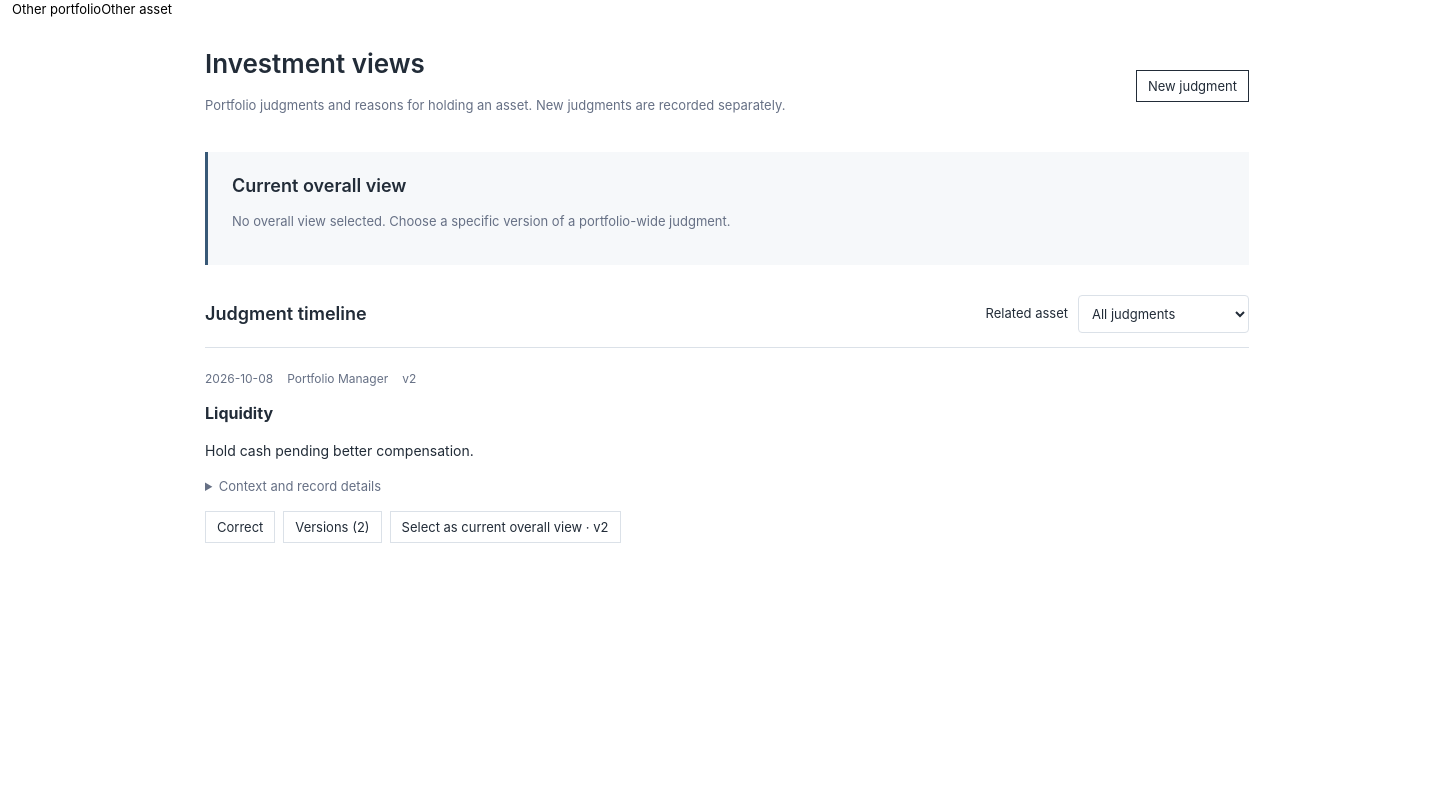
Portfolio investment judgments › selects an explicit older revision with the current stance version
The image size is (1452, 810).
What coordinates should you click on to do the following:
click the button "Versions (2)"
I would click on:
 (332, 526)
Its box is [283,510,382,542].
(page scrolled)
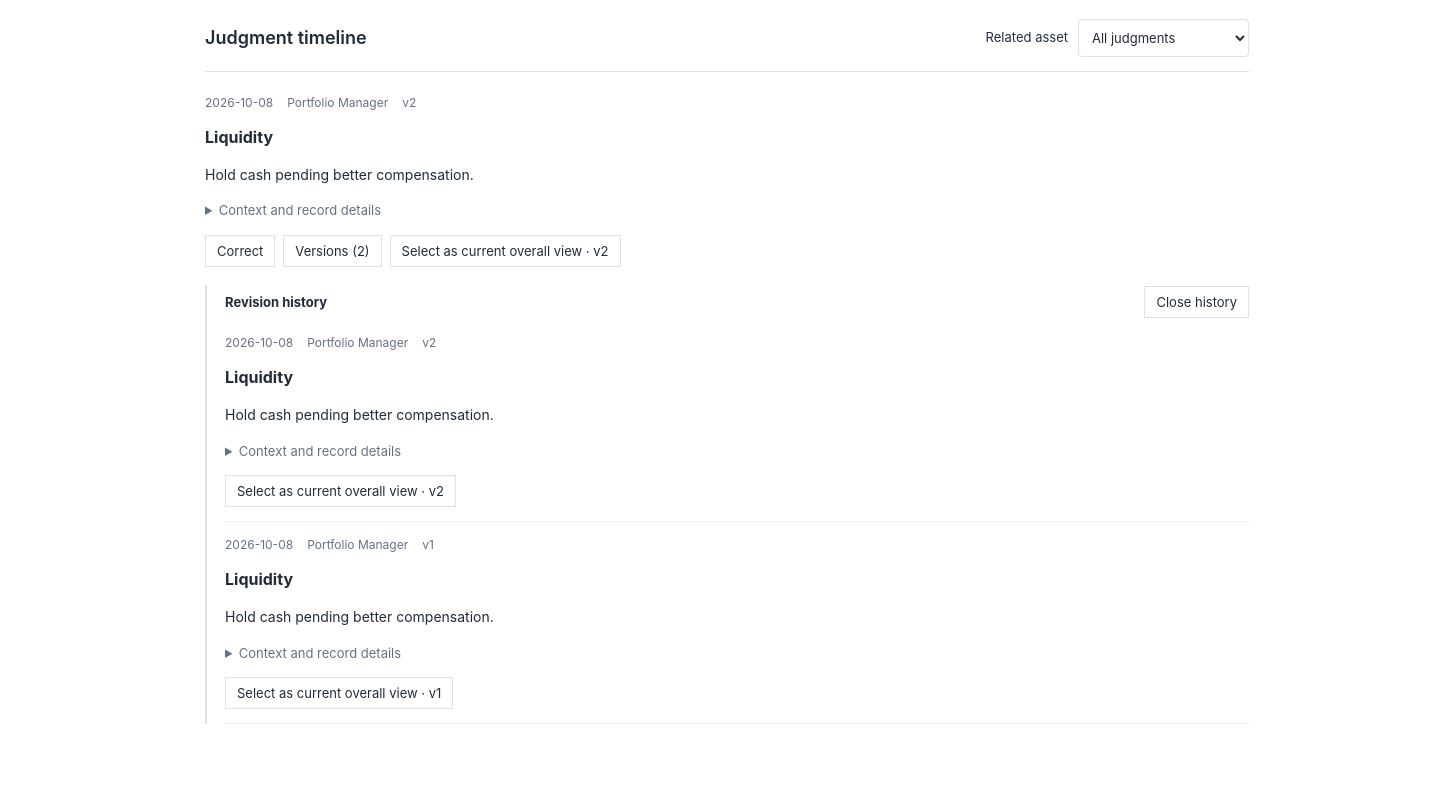
What coordinates should you click on to do the following:
click the button "Select as current overall view · v1"
I would click on:
 (339, 693)
Its box is [225,677,453,709].
(page scrolled)
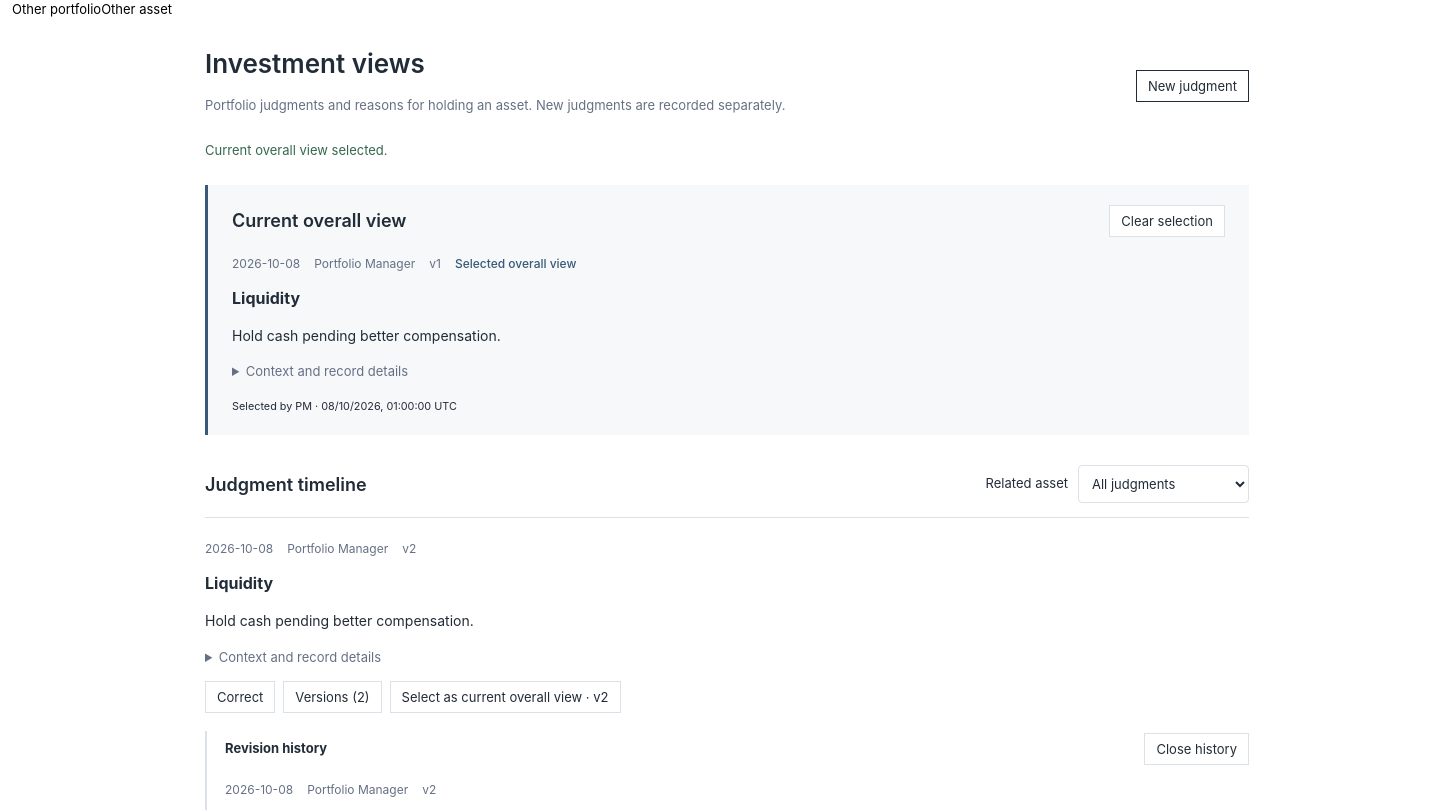
Check: the text "Current overall view selected." is shown, box [205,142,388,158]
